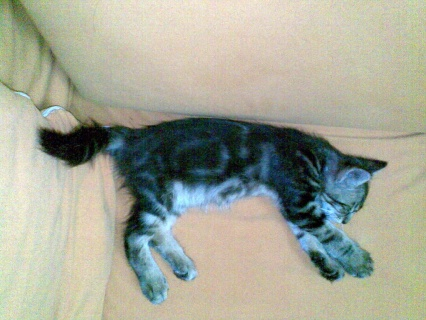Cat: (35, 113, 390, 304)
